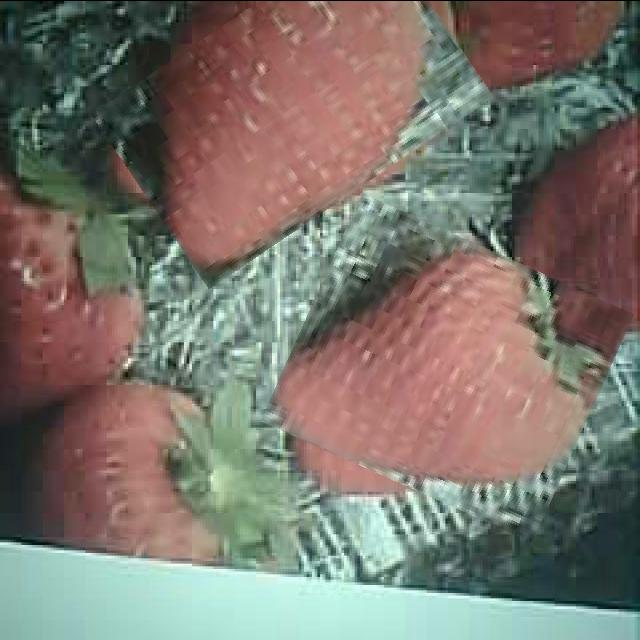strawberry: (280, 216, 614, 516), (106, 0, 479, 250)
